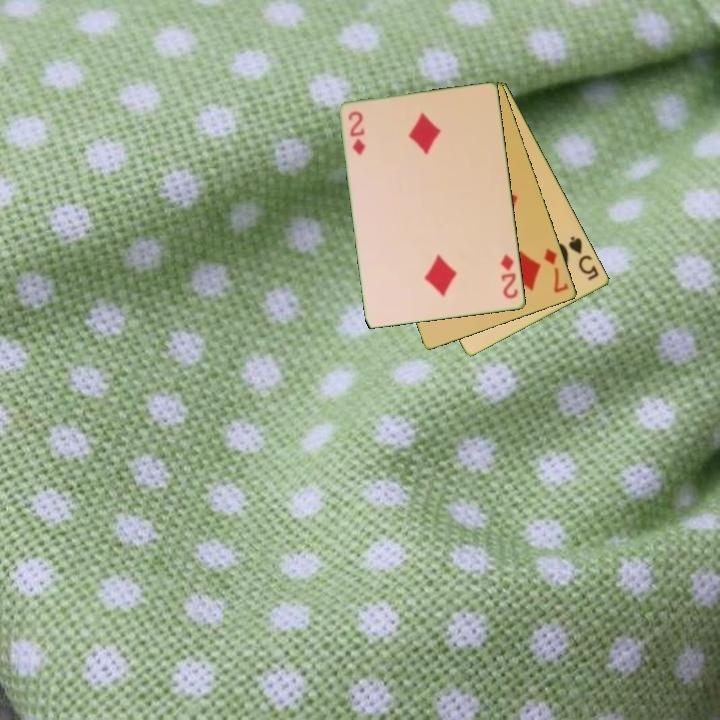2d: (497, 251, 521, 302), (345, 108, 369, 158)
5s: (565, 232, 602, 283)
7d: (540, 245, 571, 296)
